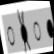correct: (44, 16, 54, 39)
not correct: (15, 6, 32, 53)
